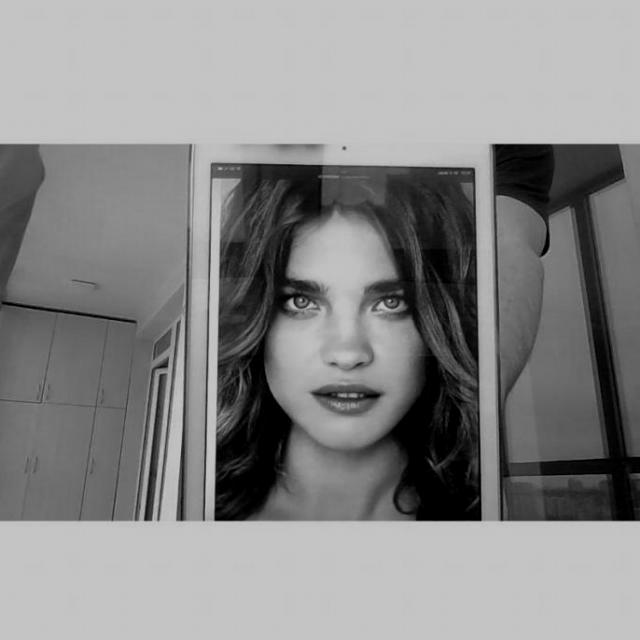fake: (176, 142, 508, 520)
